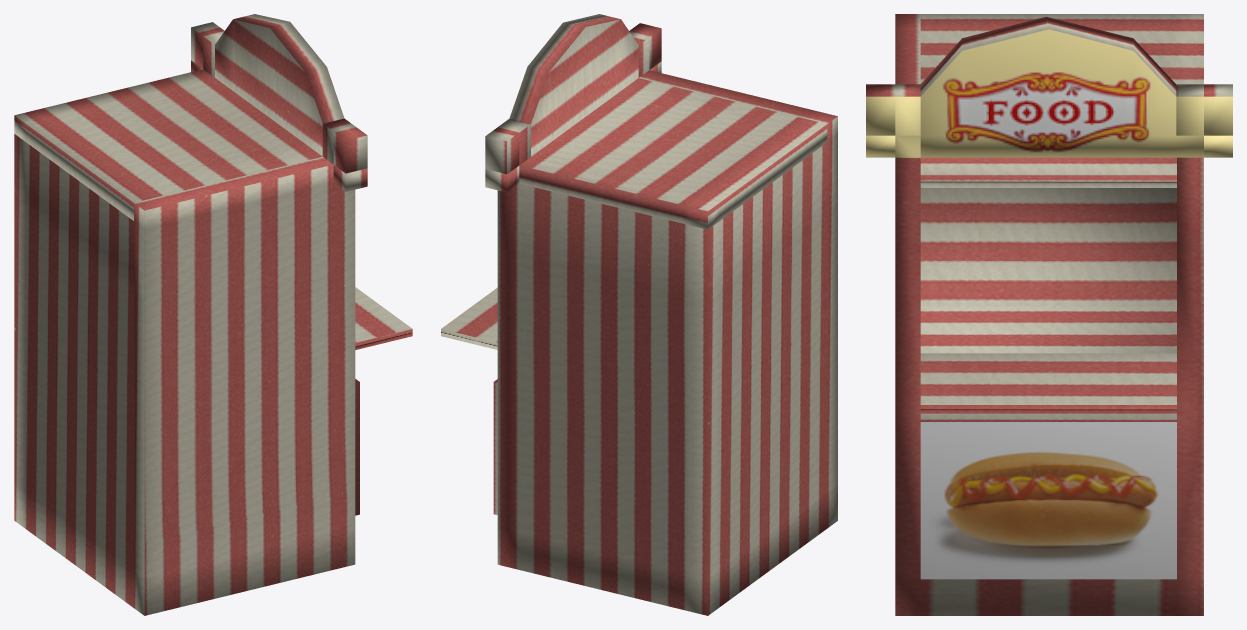
File: RingTossBooth.fbx
3 views of the same model, side by side, from view 1: azimuth 30°, elevation 25°; view 2: azimuth 150°, elevation 25°; view 3: azimuth 270°, elevation 25° (orthographic). The views are drawn at different scales.
Visible parts, largest first — view 1: pCube1; view 2: pCube1; view 3: pCube1.
Part boxes in pixels (x1,y1,x2,y2): pCube1: (14, 14, 412, 615); pCube1: (441, 14, 837, 615); pCube1: (866, 14, 1232, 615).
Size of the model in its own units: 6.82 by 11.58 by 6.56.
